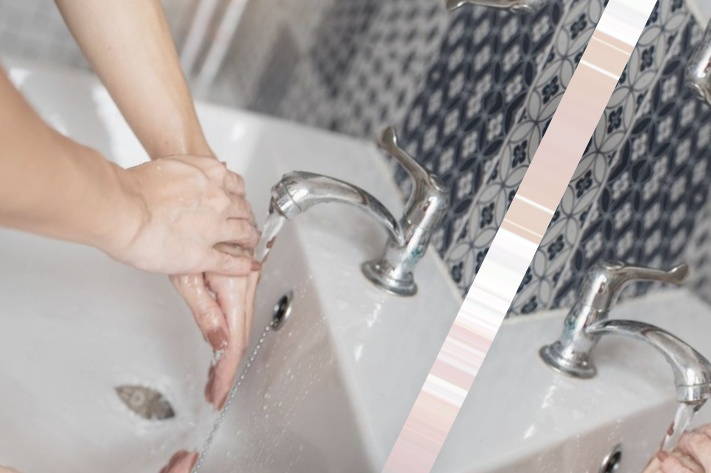washing hand: (0, 0, 497, 472)
